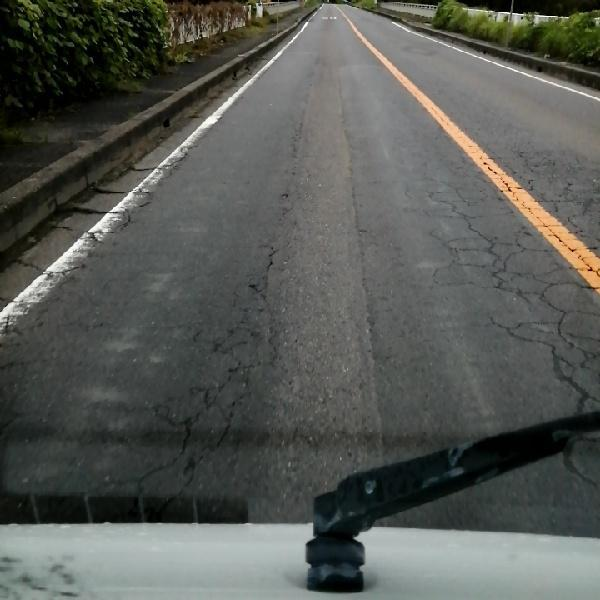D20: (86, 202, 301, 502), (408, 138, 599, 451)
